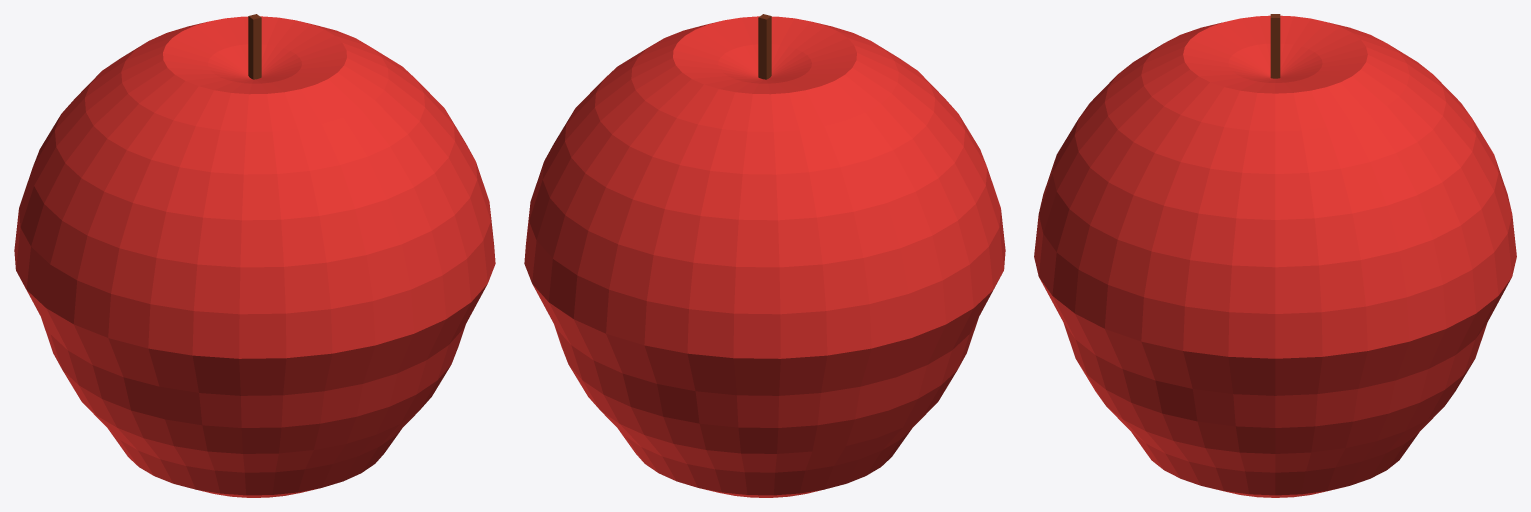
File: Apple.dae
3 renders of one model, left to right at view 1: azimuth 30°, elevation 25°; view 2: azimuth 150°, elevation 25°; view 3: azimuth 270°, elevation 25°, orthographic.
Visible parts, largest first — view 1: Sphere, Cube; view 2: Sphere, Cube; view 3: Sphere, Cube.
Part boxes in pixels (x1,y1,x2,y2): Sphere: (14,16,495,497); Cube: (248,14,261,79); Sphere: (524,16,1005,497); Cube: (758,14,771,79); Sphere: (1034,15,1516,497); Cube: (1270,14,1280,78).
Bounding box in the file's own units: 2 × 2 × 2.04.
